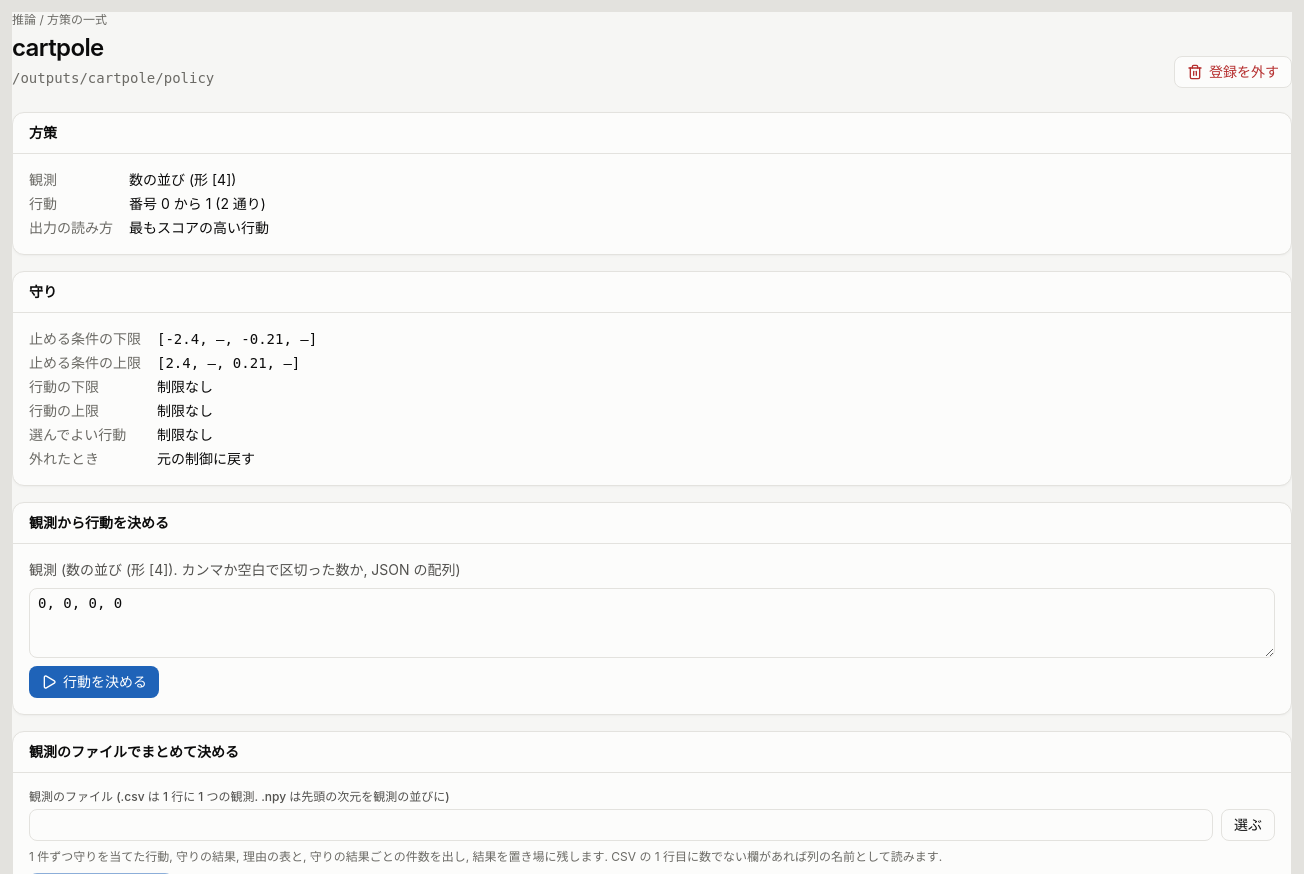
Scenario: 方策の一式の画面 › 空間と守りを出し, 観測から行動と守りの結果を出す
Expected: the text "番号 0 から 1 (2 通り)" is shown, [129,195,266,212]
Expected: the text "元の制御に戻す" is shown, [157,451,255,467]
Click the button "行動を決める": [94, 682] box [29,666,159,698]
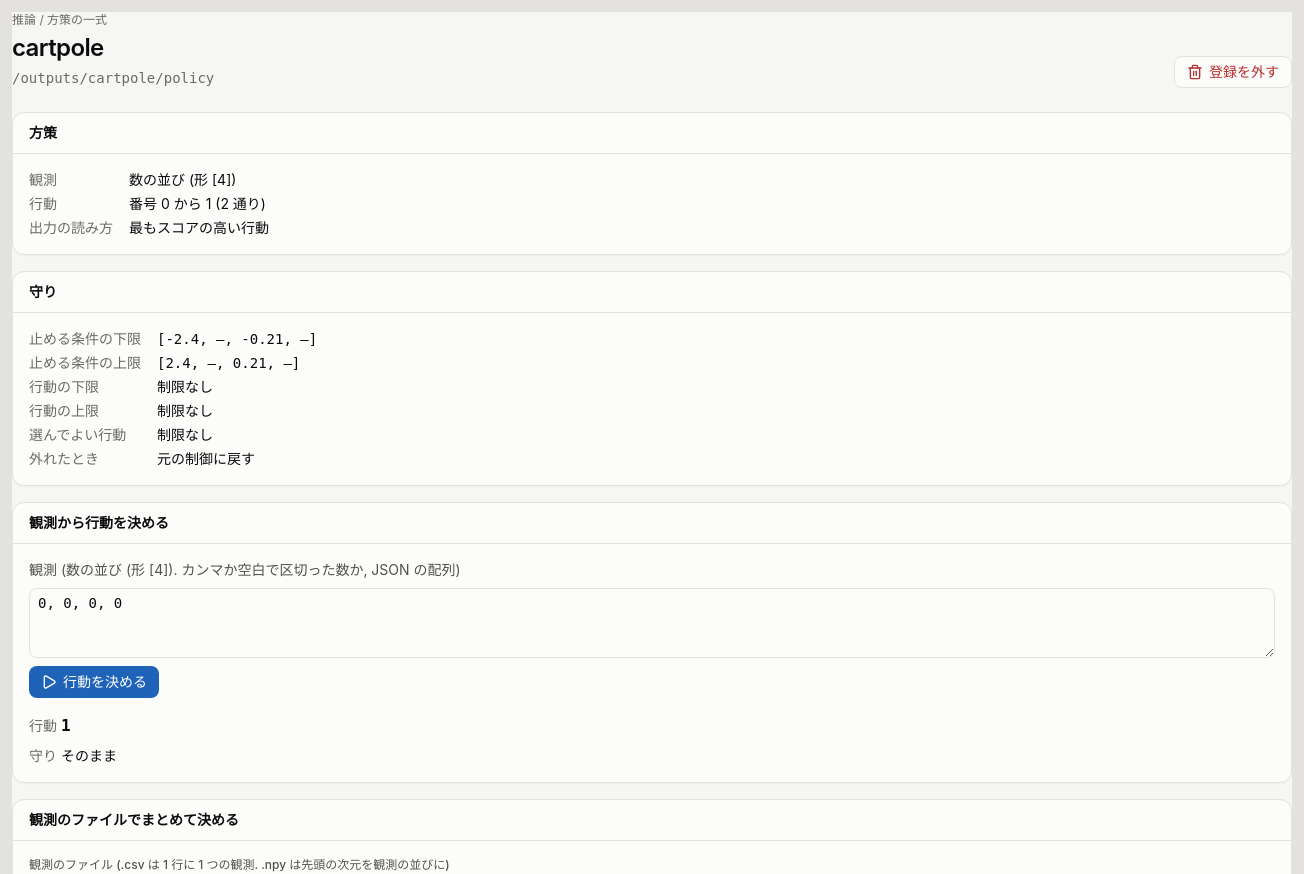
Now the text "そのまま" is shown, box [61,747,117,764]
Replace the text in the text box labelled "観測 (数の並び (形 [4]). カンマか空白で区切った数か, JSON の配列)" with "2.5, 0, 0, 0": [652, 623] box [29,588,1275,658]
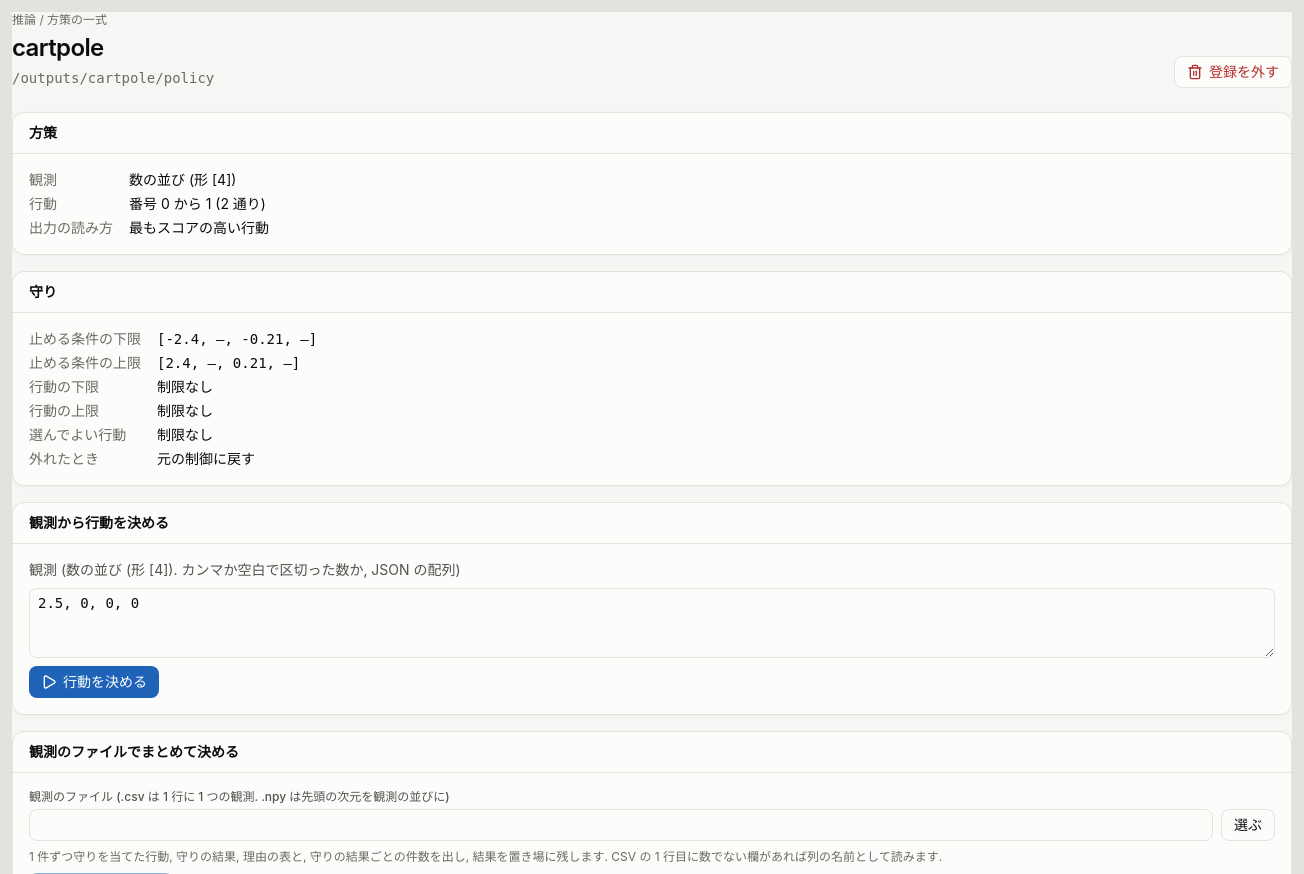
Click the button "行動を決める": [94, 682] box [29,666,159,698]
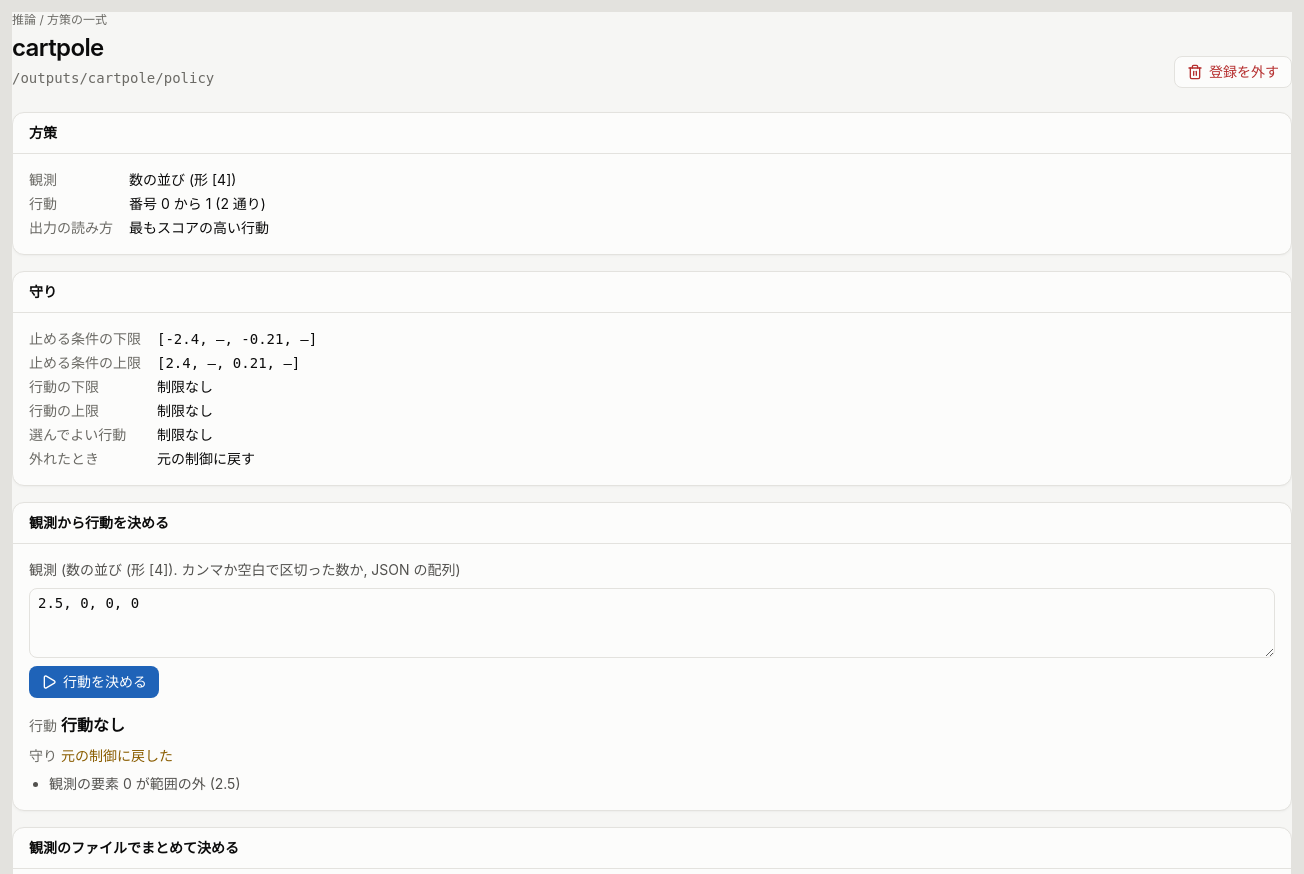
Now the text "元の制御に戻した" is shown, box [61,747,173,764]
Now the text "行動なし" is shown, box [61,716,125,735]
Now the list item "観測の要素 0 が範囲の外 (2.5)" is shown, box [49,775,240,792]
